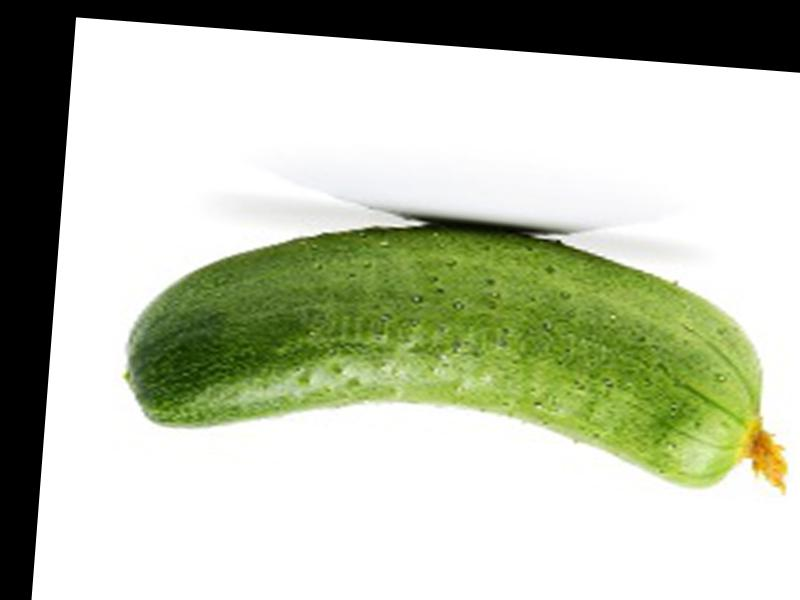Cucumber: (116, 199, 800, 498)
